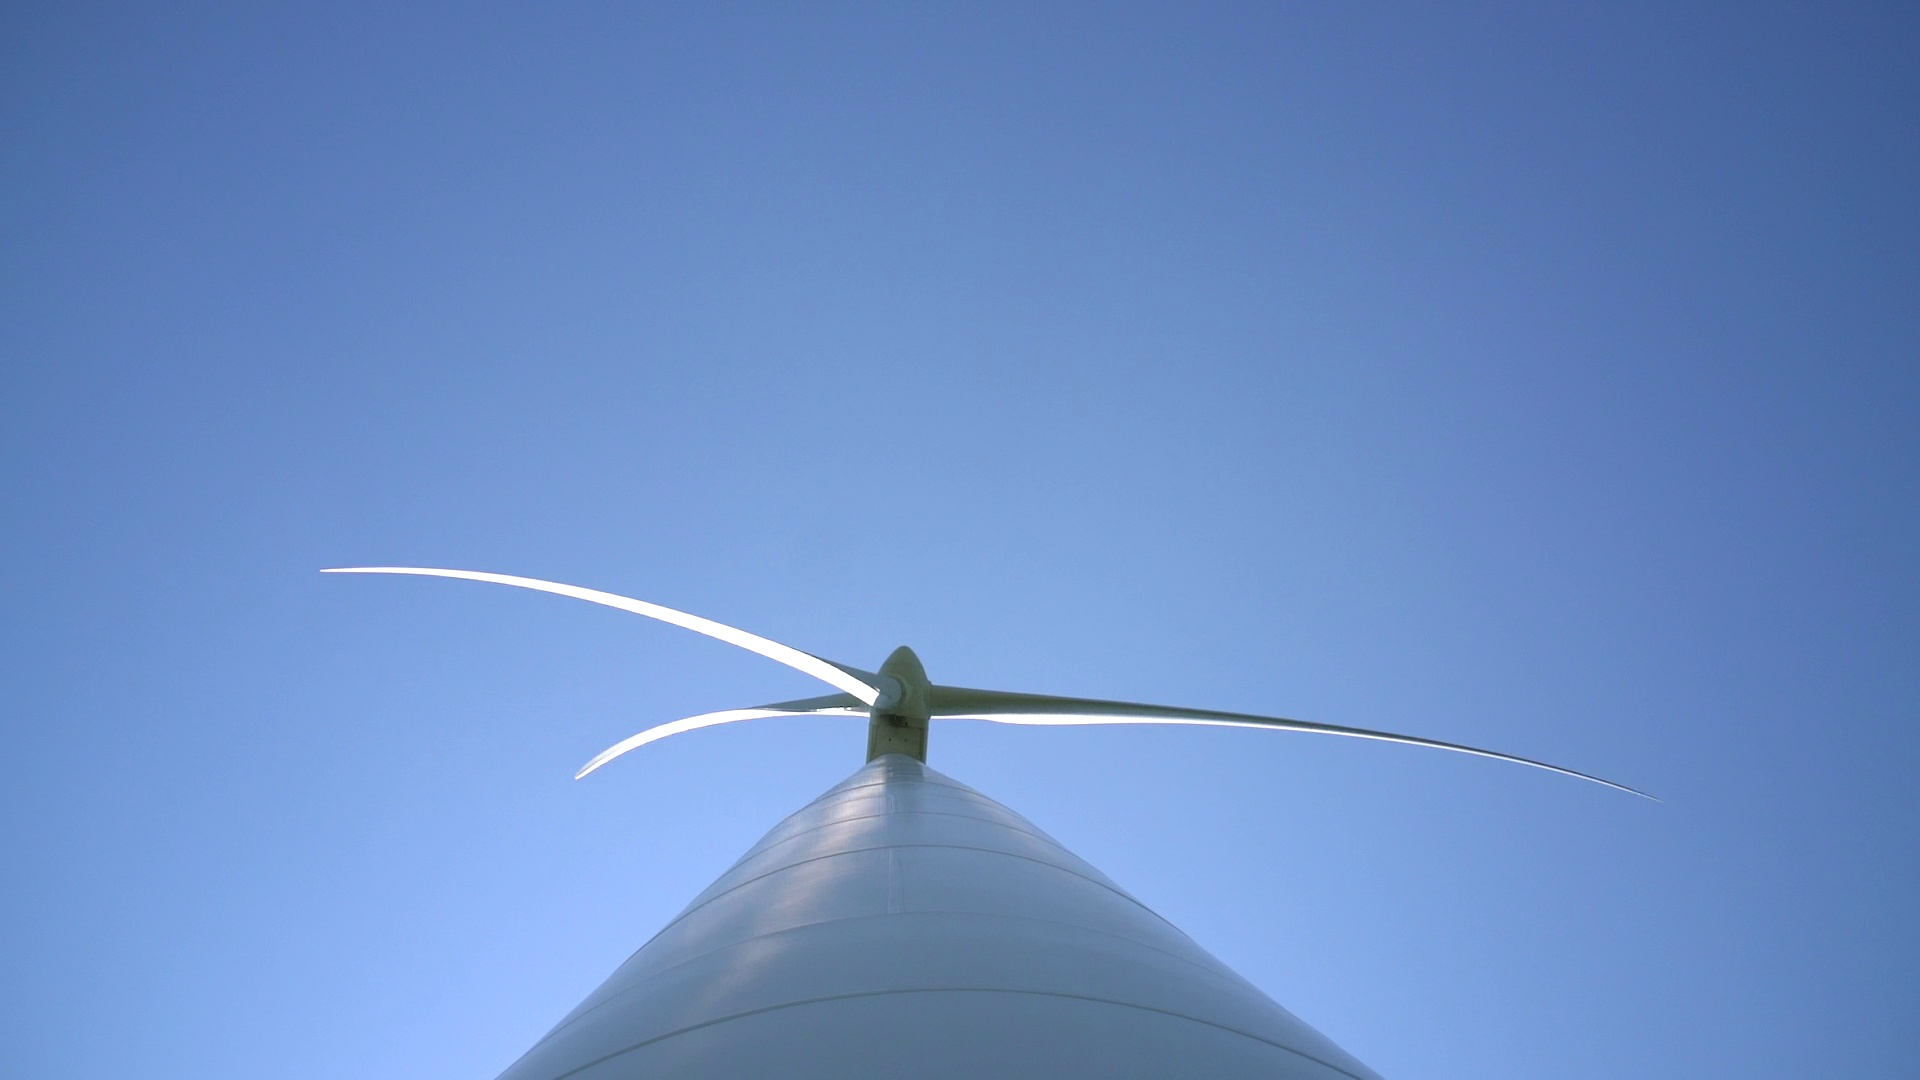turbine: (920, 653, 1660, 836), (266, 541, 920, 709), (465, 669, 880, 781)
